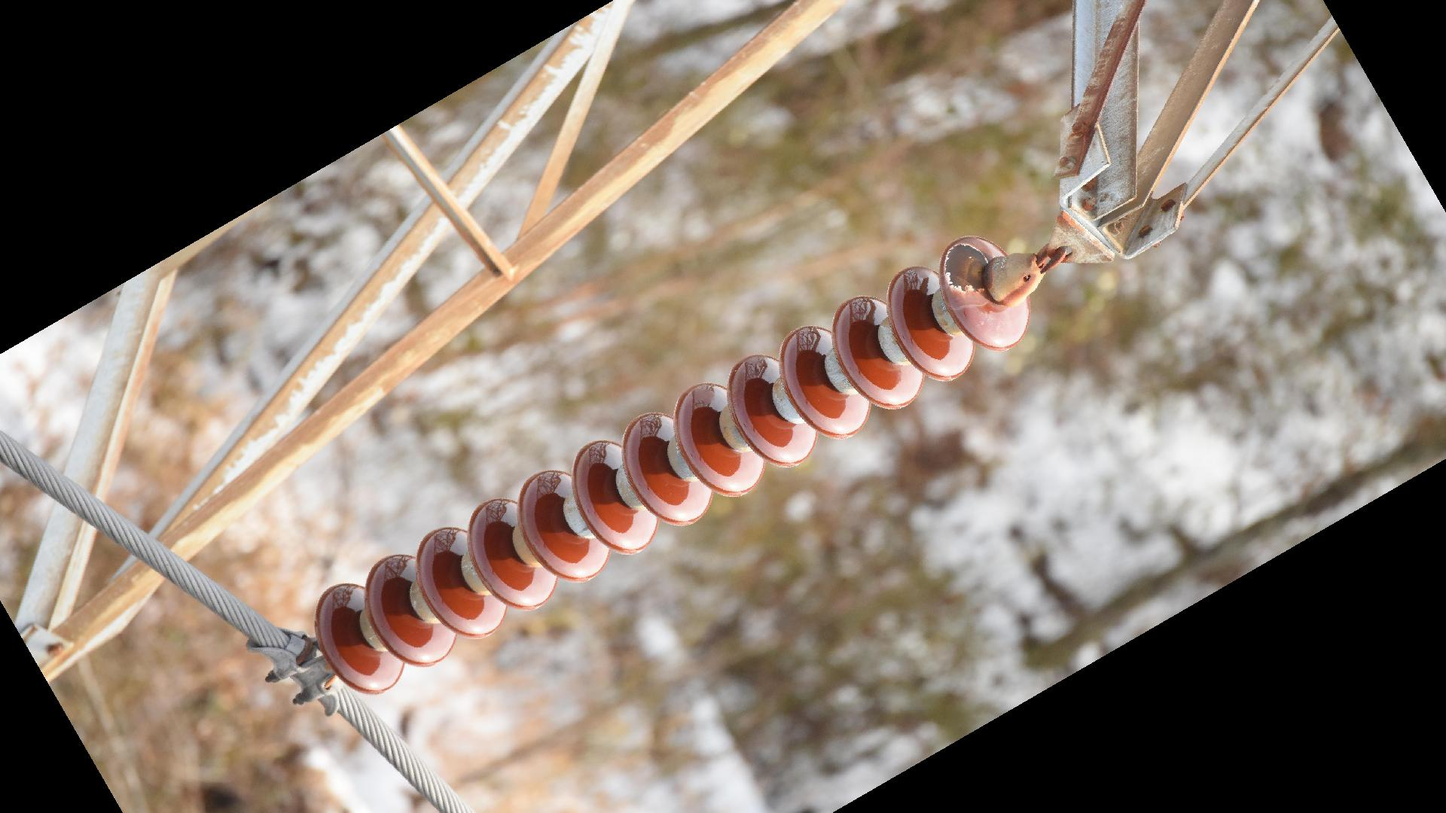insulator: (310, 230, 1037, 700)
insulator_flashover: (941, 241, 992, 295)
